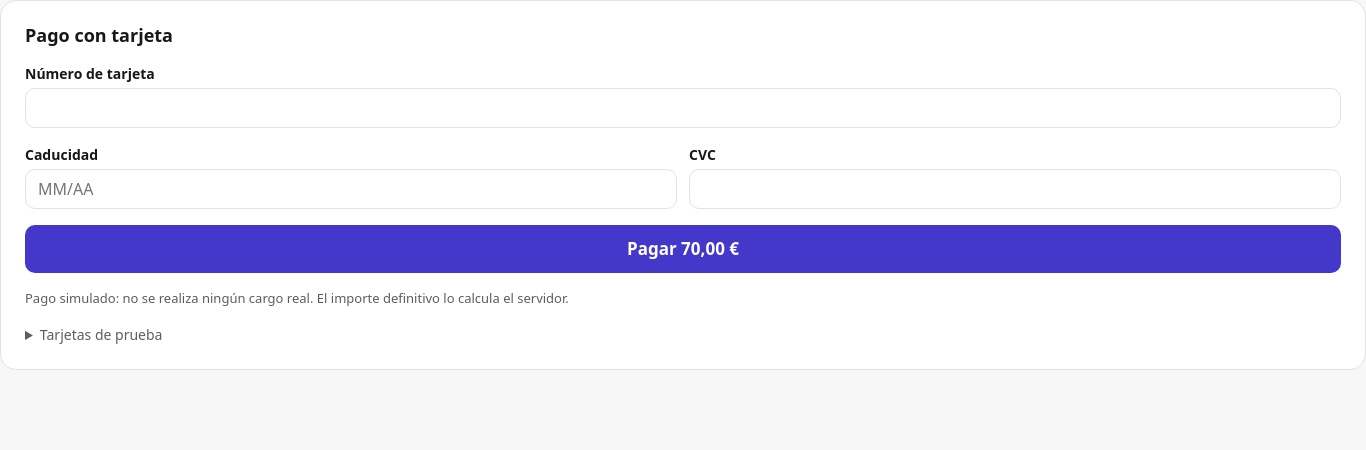
CheckoutForm › muestra el motivo cuando la tarjeta es rechazada y no da el pago por hecho
Type "4000000000000002" into the field labelled "Número de tarjeta".
click(683, 108); type("4000000000000002")  # box 25,88 -> 1341,128
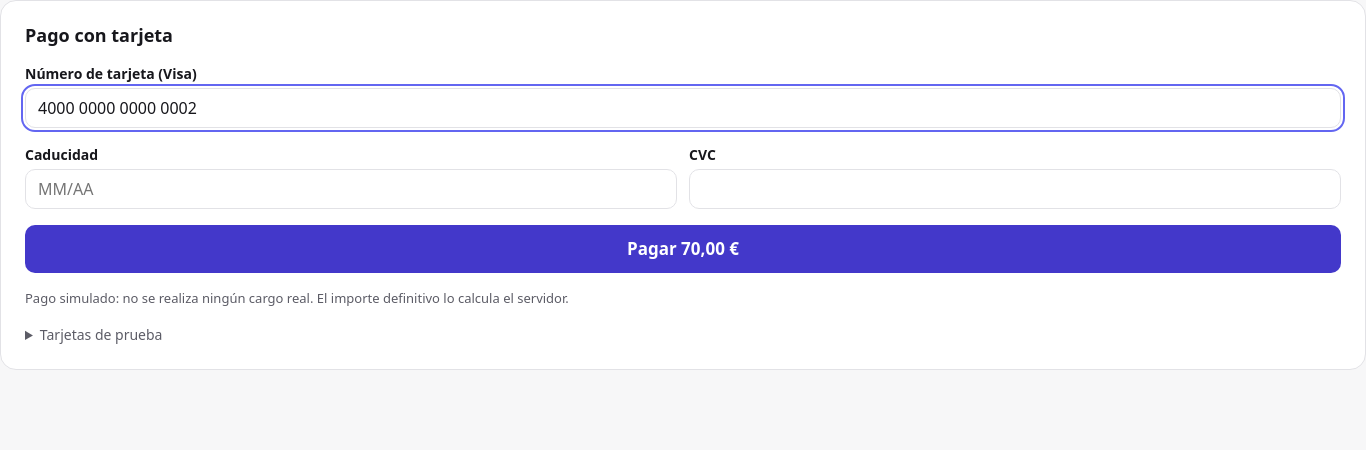
Type "1230" into the field labelled "Caducidad".
click(351, 189); type("1230")  # box 25,169 -> 677,209
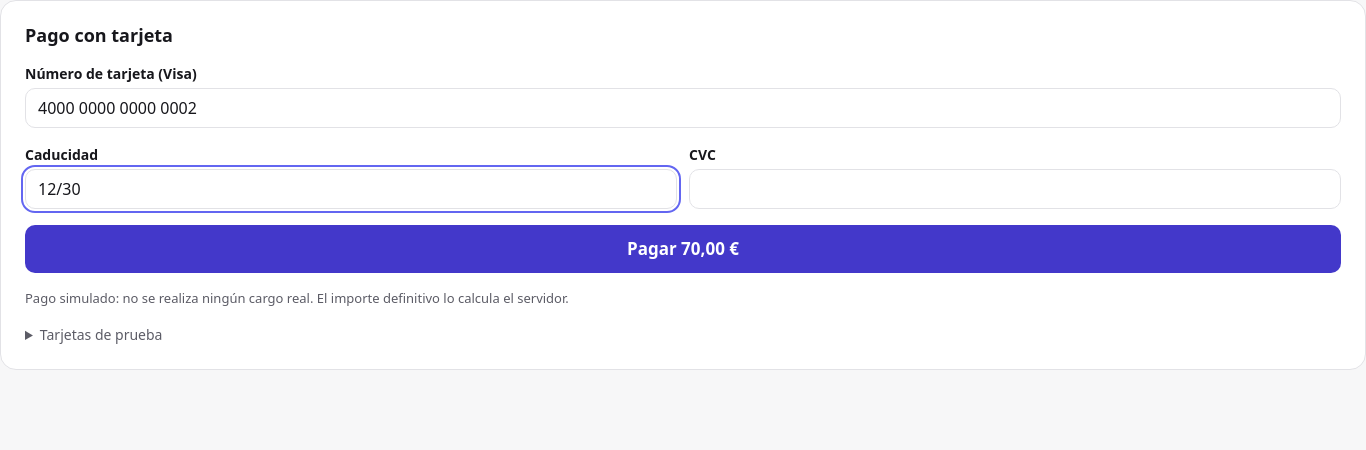
Type "123" into the field labelled "CVC".
click(1015, 189); type("123")  # box 689,169 -> 1341,209
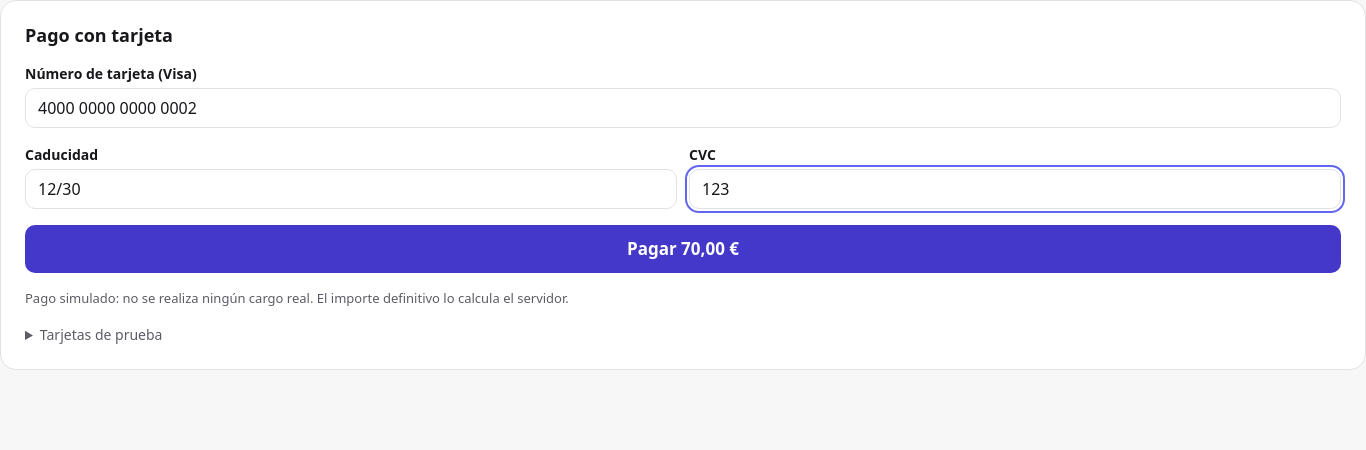
Click the button "Pagar 70,00 €".
click(683, 249)  # box 25,225 -> 1341,273
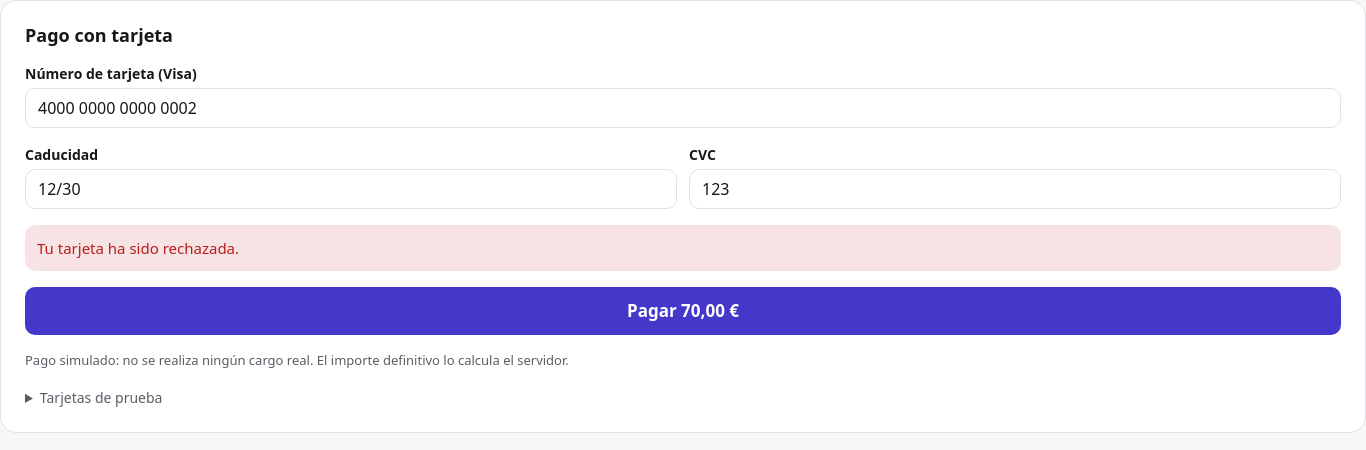
Expected: the button "Pagar 70,00 €" is enabled, 25,287 -> 1341,335
Expected: the message reads "Tu tarjeta ha sido rechazada.", 37,238 -> 239,258
